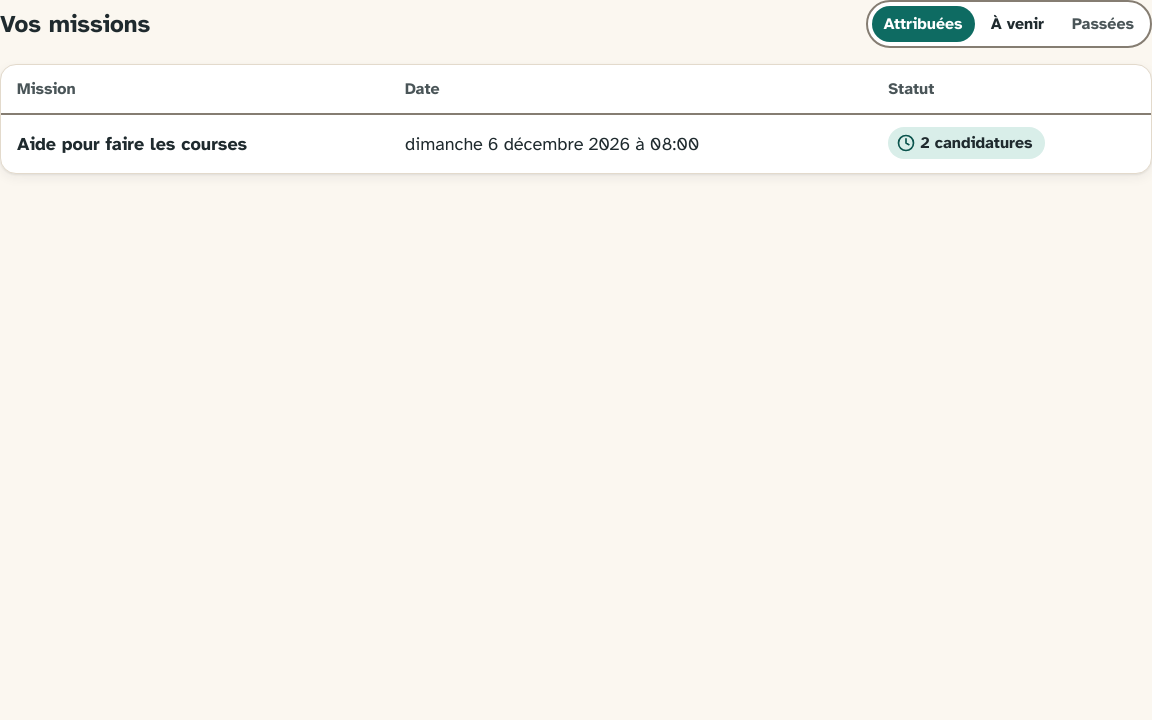
PublishedMissionList › explains why a candidate could not be chosen
The image size is (1152, 720).
Click the row that starts with "Aide pour faire les courses" at (576, 144), box left=1, top=115, right=1151, bottom=173
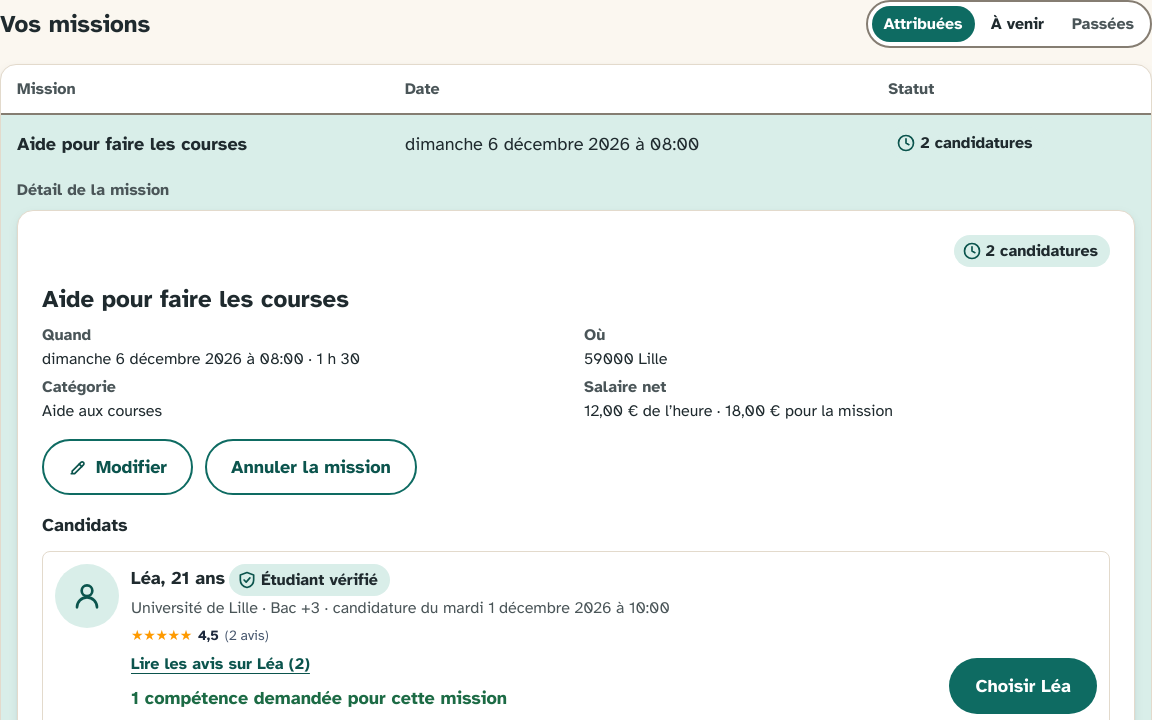
Click the button "Choisir Léa" at (1023, 686), box left=949, top=658, right=1097, bottom=714
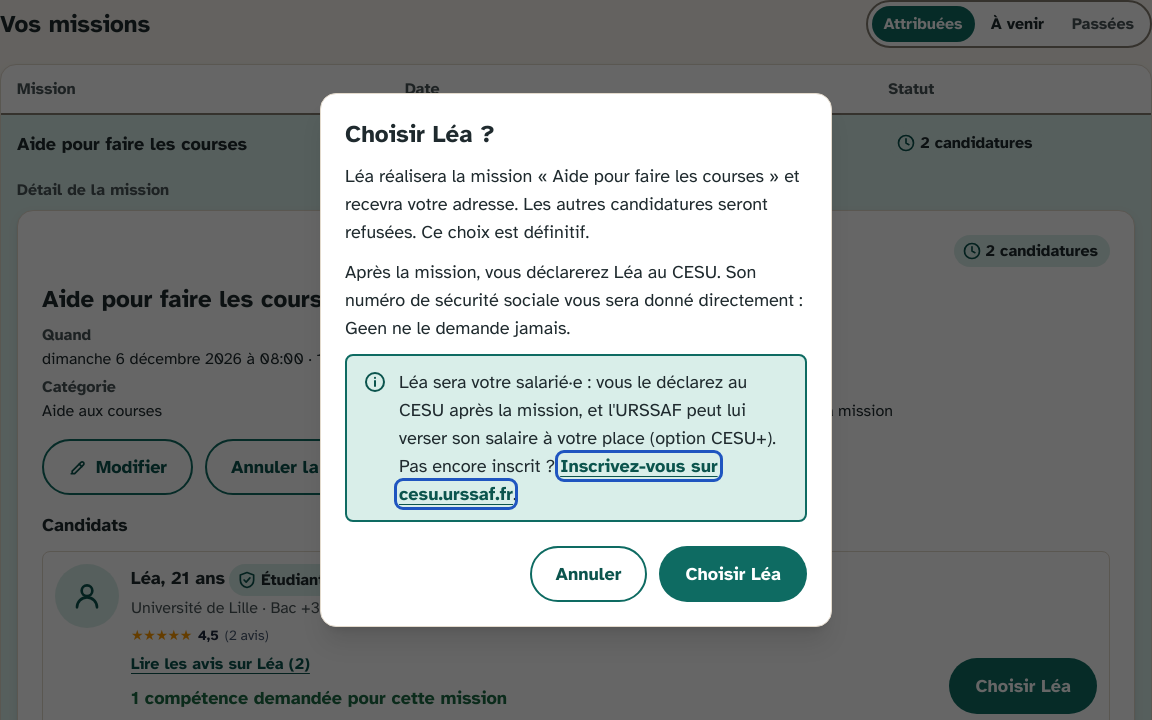
Click the button "Choisir Léa" at (733, 574), box left=659, top=546, right=807, bottom=602
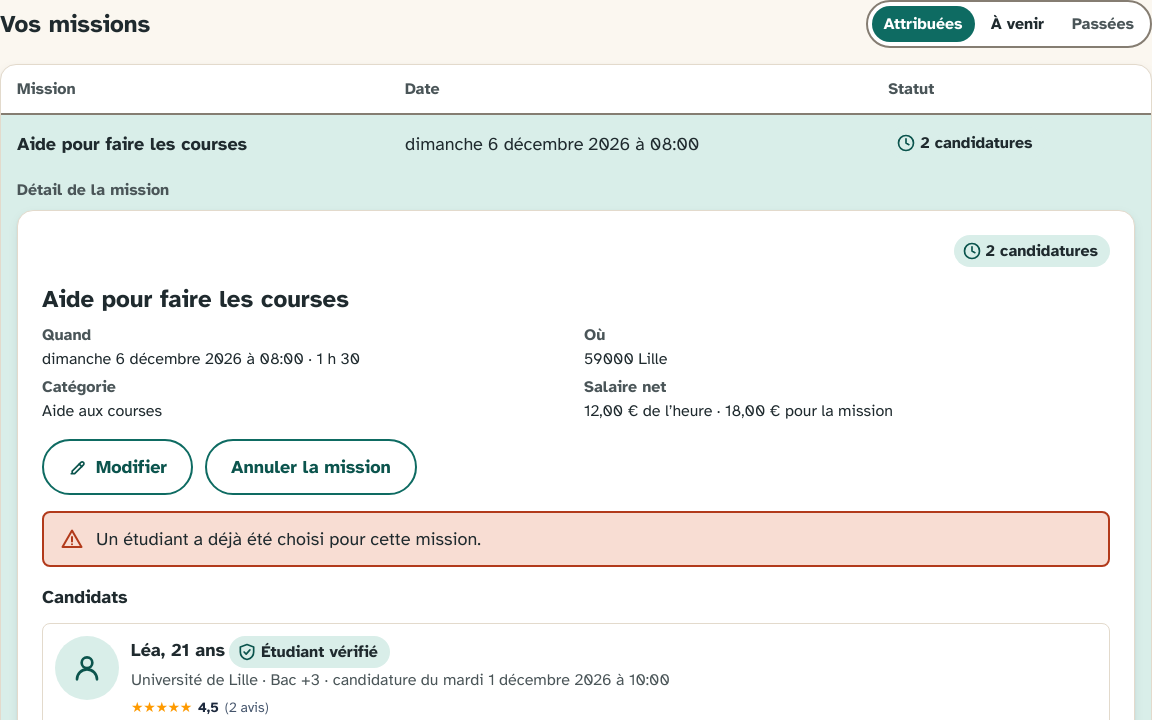
Expected: the message "Un étudiant a déjà été choisi pour cette mission." is shown, left=42, top=511, right=1110, bottom=567
